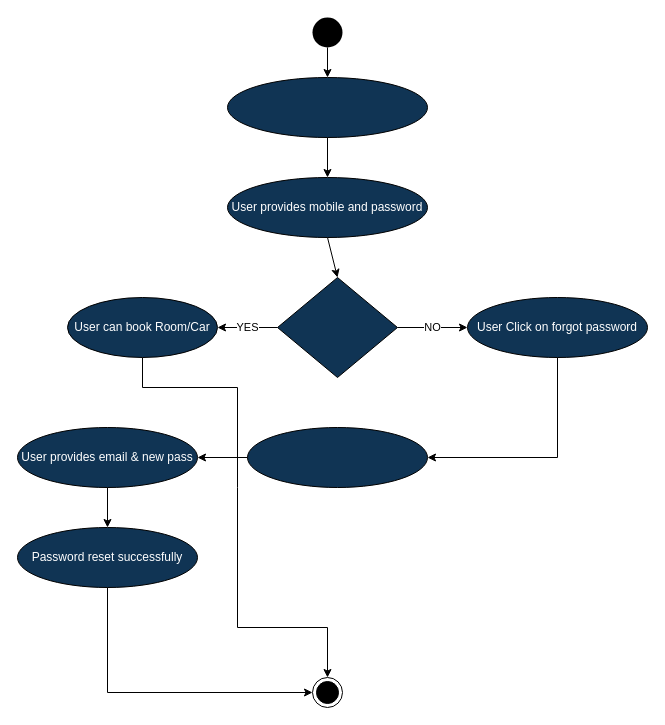
This 665x725 diagram has some shape labels left out. The centre of each missing label's shape, as x and y in pixels:
Login Successful?: point (337, 327)
Redirect to reset password page: point (337, 457)
User clicks on login option in navbar: point (327, 107)
